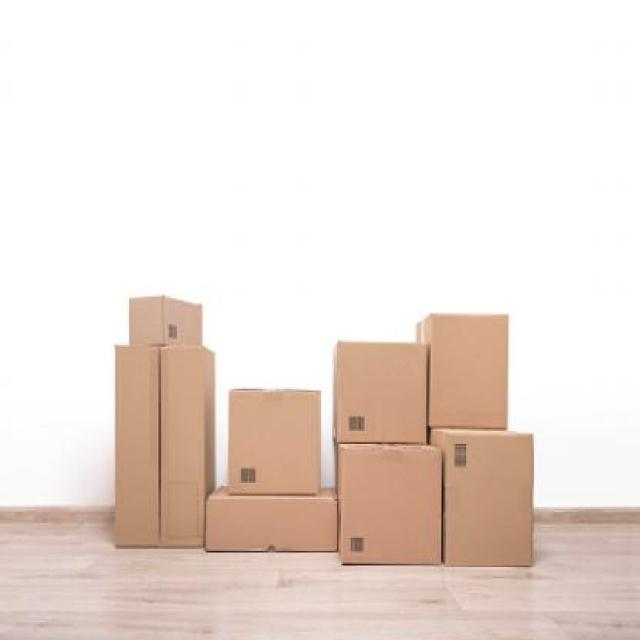box: (99, 341, 221, 581), (432, 422, 543, 583), (334, 441, 448, 580), (417, 303, 515, 439), (221, 369, 328, 490), (331, 327, 435, 449), (203, 488, 334, 568), (117, 271, 203, 358)
